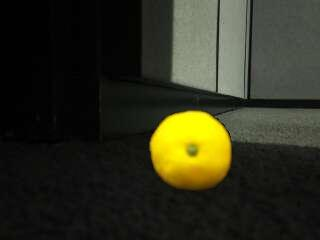Lemon: (149, 110, 233, 192)
